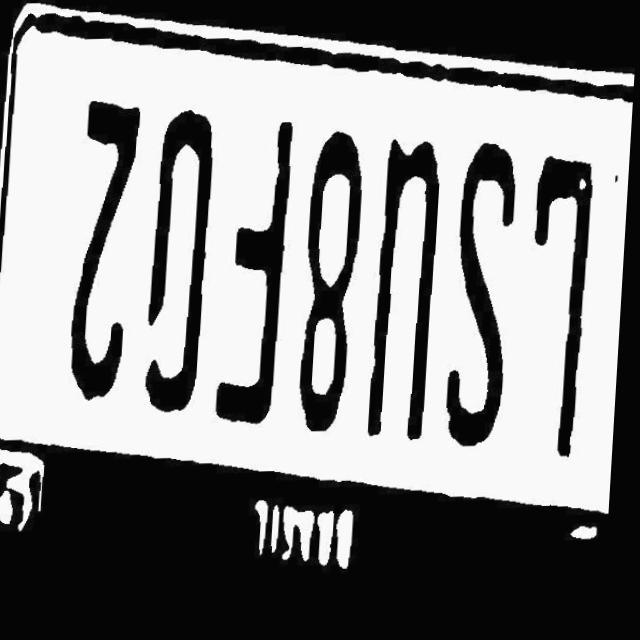0: (140, 106, 222, 419)
2: (59, 91, 150, 408)
8: (297, 130, 371, 432)
f: (219, 119, 307, 433)
l: (522, 154, 602, 467)
s: (446, 147, 529, 452)
u: (370, 133, 451, 448)
